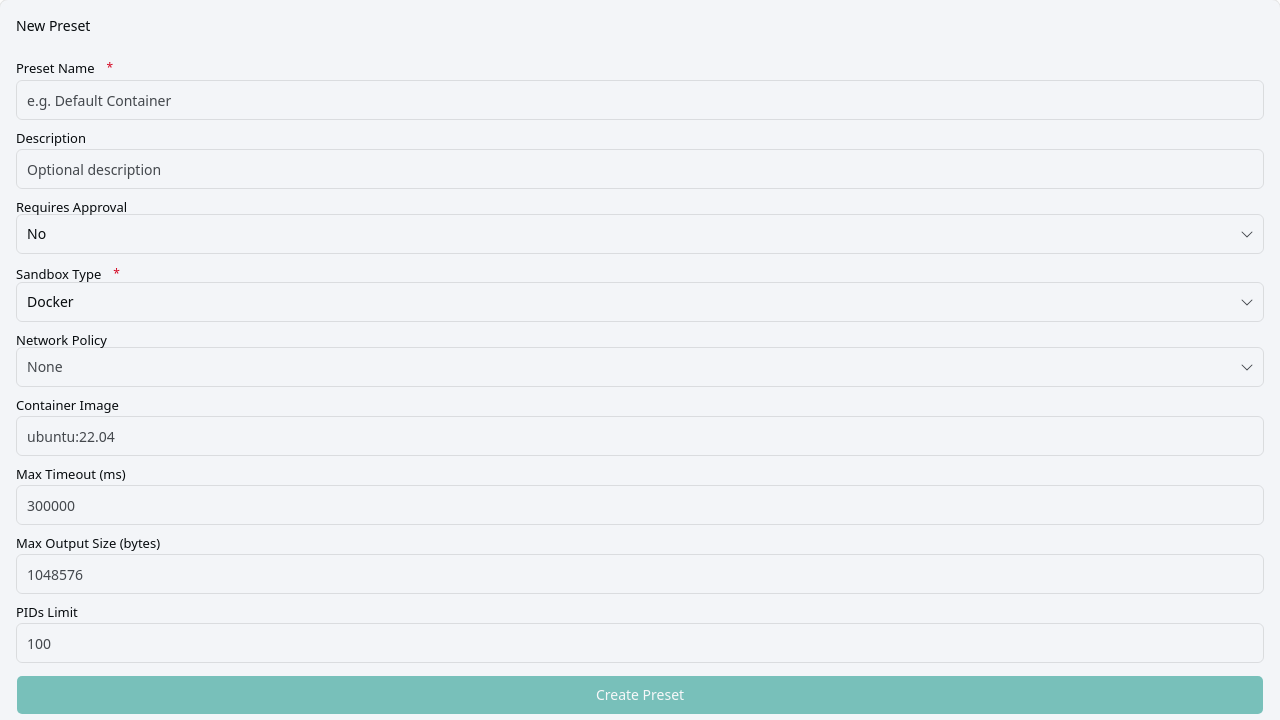
Test: SandboxConfigForm › network mode select options › should show all network mode options in the select
Click the dropdown named "Network Policy": (45, 366) [16, 347, 1264, 387]
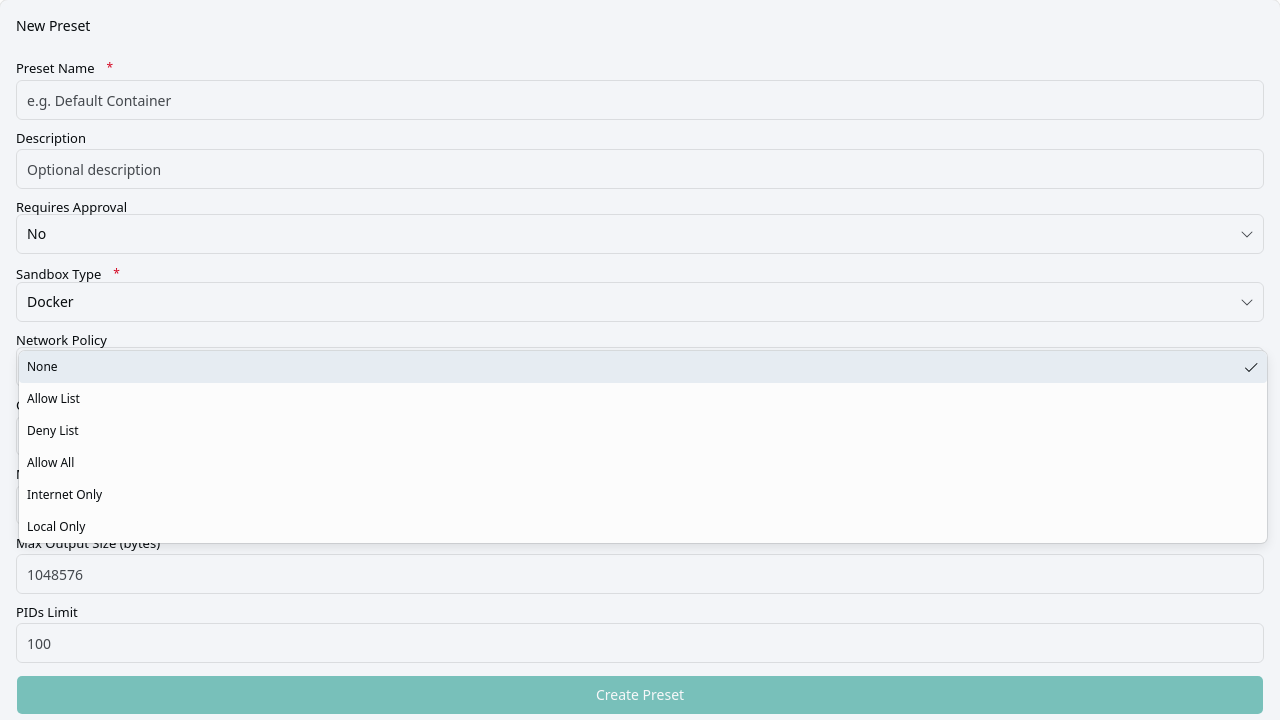
Expected: the option "None" is shown, [19, 351, 1267, 383]
Expected: the option "Allow List" is shown, [27, 390, 80, 407]
Expected: the option "Deny List" is shown, [27, 422, 79, 439]
